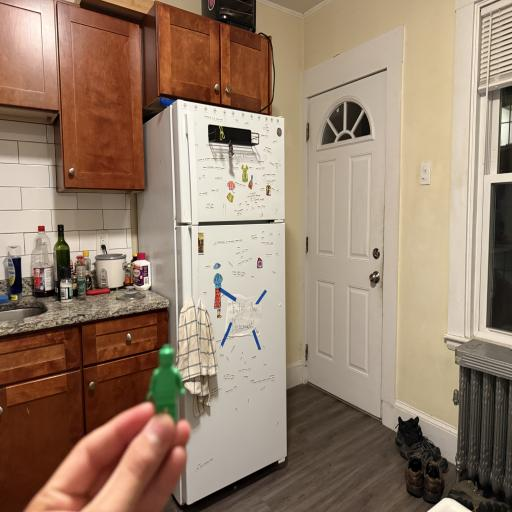Minifig: (147, 344, 185, 422)
